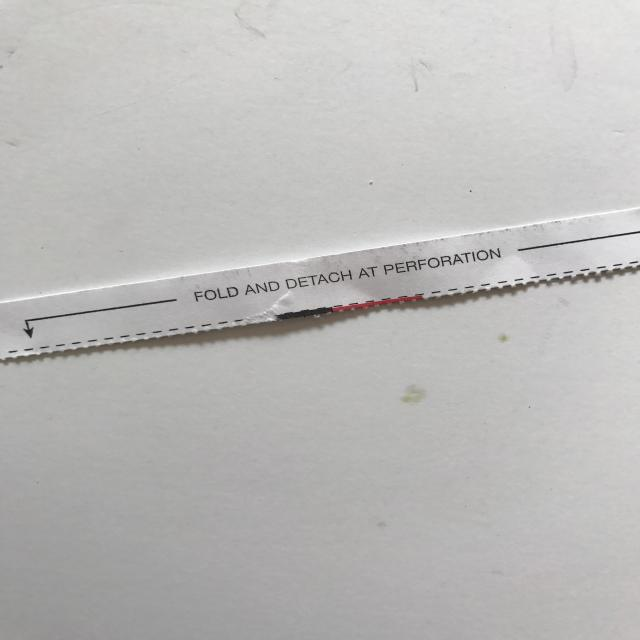Paper: (0, 208, 640, 362)
